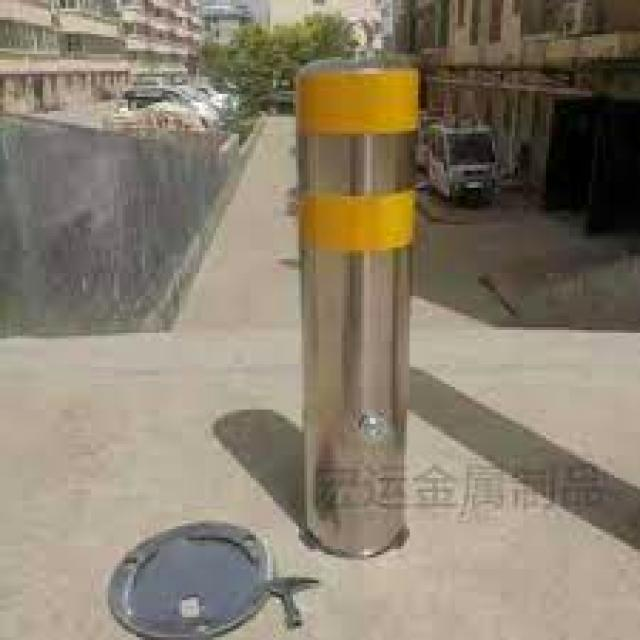bollard: (280, 37, 419, 570)
